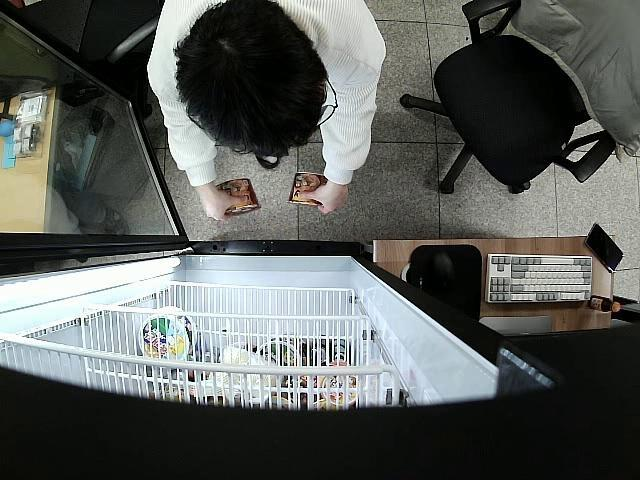05_nuguri_L: (218, 179, 260, 218), (286, 170, 329, 207)
